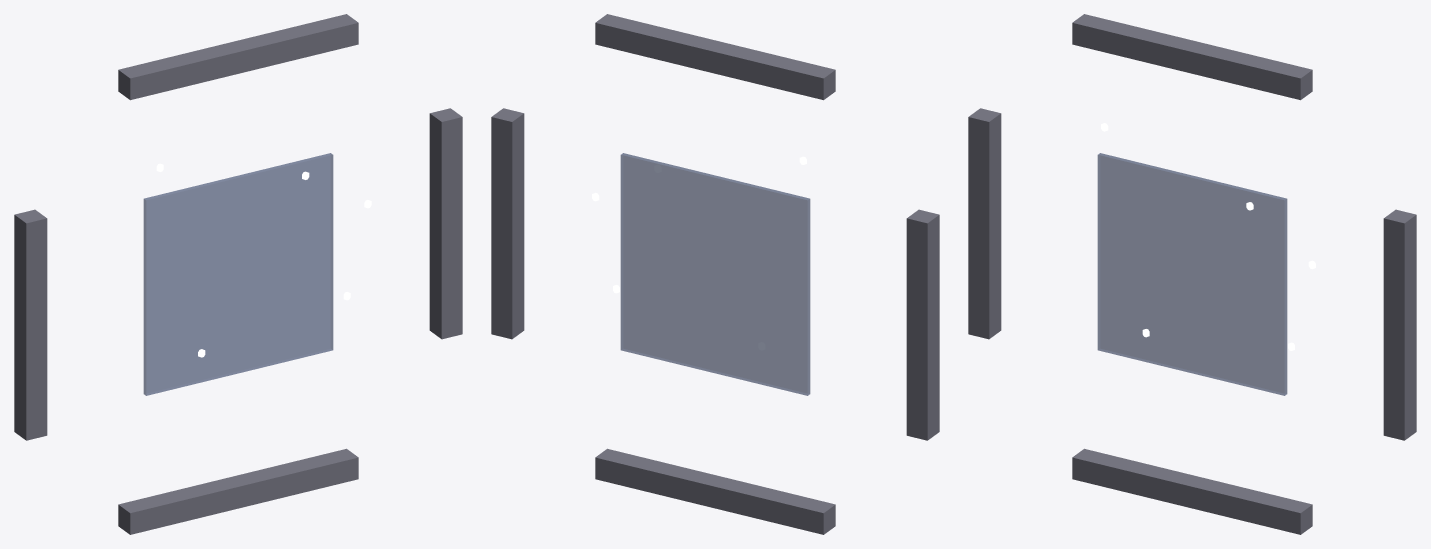
Rendered from space_window.glb.
The picture shows the model from 3 angles, left to right: view 1: azimuth 30°, elevation 25°; view 2: azimuth 150°, elevation 25°; view 3: azimuth 330°, elevation 25°; orthographic projection.
Parts seen in each view (by area): view 1: Cube.004, Cube.002, Cube.003, Cube, Cube.001; view 2: Cube.004, Cube.002, Cube.003, Cube, Cube.001; view 3: Cube.004, Cube.002, Cube.003, Cube, Cube.001.
Part boxes in pixels (left/top/right/bottom): Cube.004: left=143, top=153, right=333, bottom=395; Cube.002: left=118, top=14, right=358, bottom=100; Cube.003: left=118, top=448, right=358, bottom=534; Cube: left=14, top=209, right=47, bottom=440; Cube.001: left=429, top=108, right=462, bottom=339; Cube.004: left=620, top=153, right=810, bottom=395; Cube.002: left=595, top=14, right=835, bottom=100; Cube.003: left=595, top=448, right=835, bottom=534; Cube: left=906, top=209, right=939, bottom=440; Cube.001: left=491, top=108, right=524, bottom=339; Cube.004: left=1097, top=153, right=1287, bottom=395; Cube.002: left=1072, top=14, right=1312, bottom=100; Cube.003: left=1072, top=448, right=1312, bottom=534; Cube: left=968, top=108, right=1001, bottom=339; Cube.001: left=1383, top=209, right=1416, bottom=440.
Bounding box in the file's own units: 1.05 × 1.05 × 0.0537.
